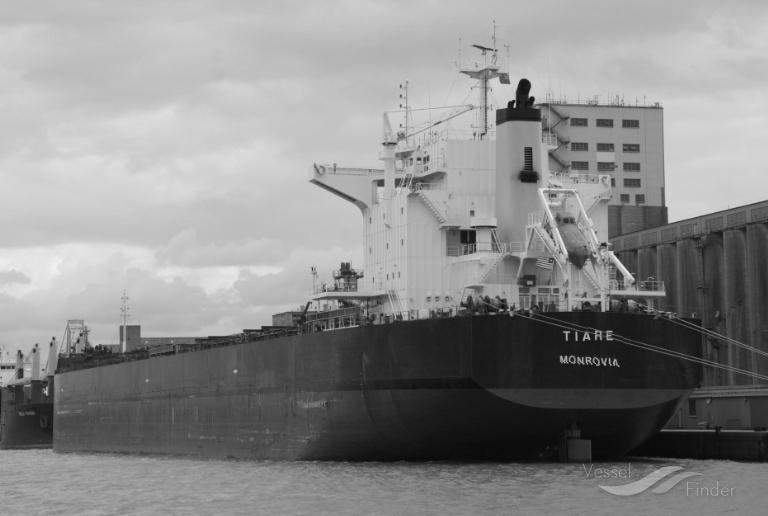OCR: (546, 347, 630, 369), (554, 324, 623, 349)
